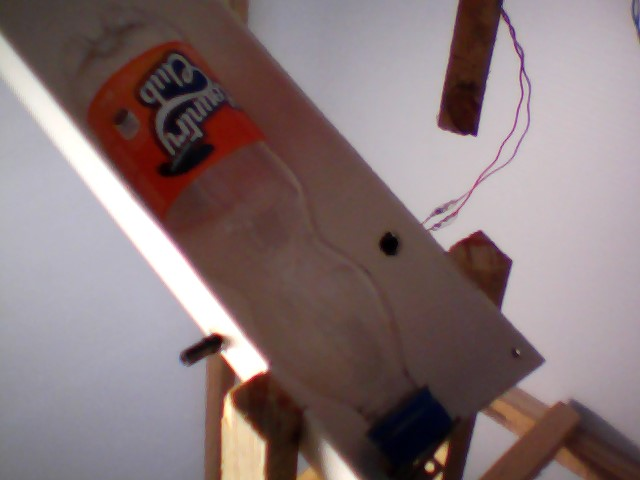plastico: (45, 2, 462, 472)
